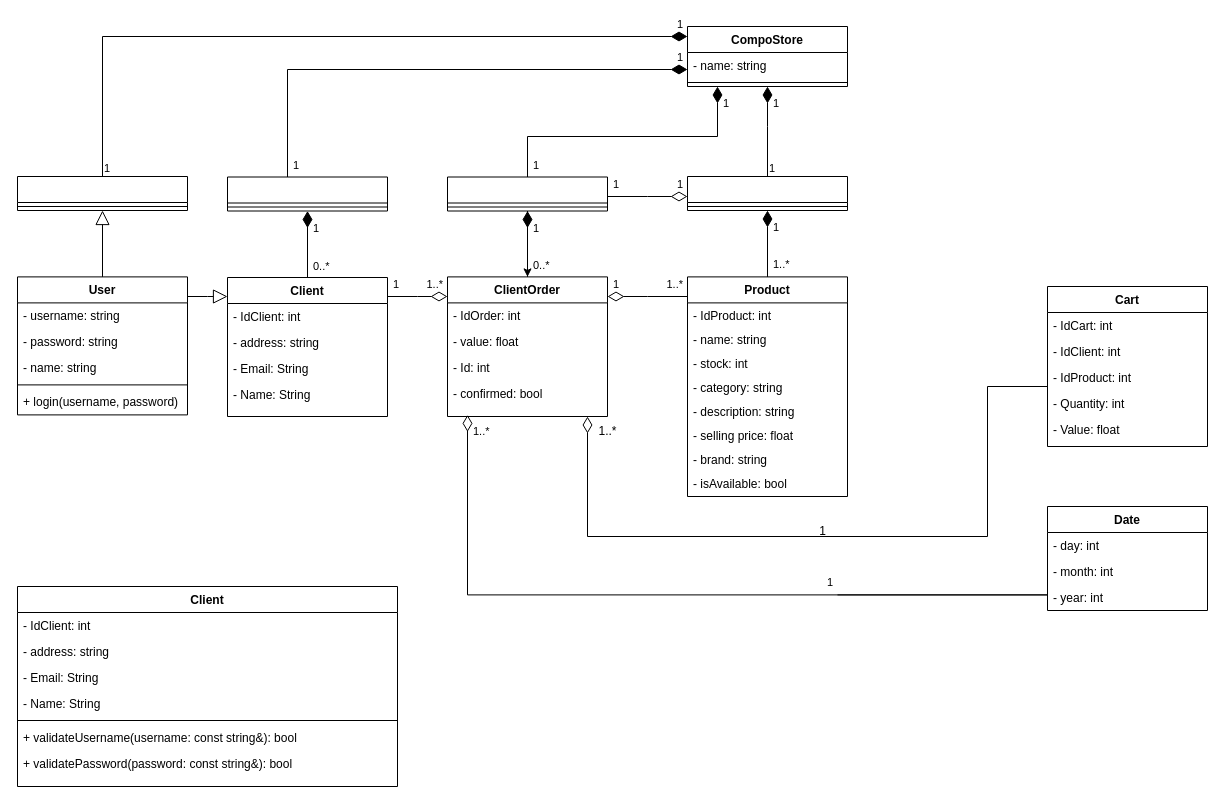
This 1225x804 diagram has some shape labels left out. The centre of each missing label's shape, as x and y in pixels:
ClientList: (307,193)
ClientOrderList: (527,193)
Manager: (102,193)
ProductList: (767,193)
